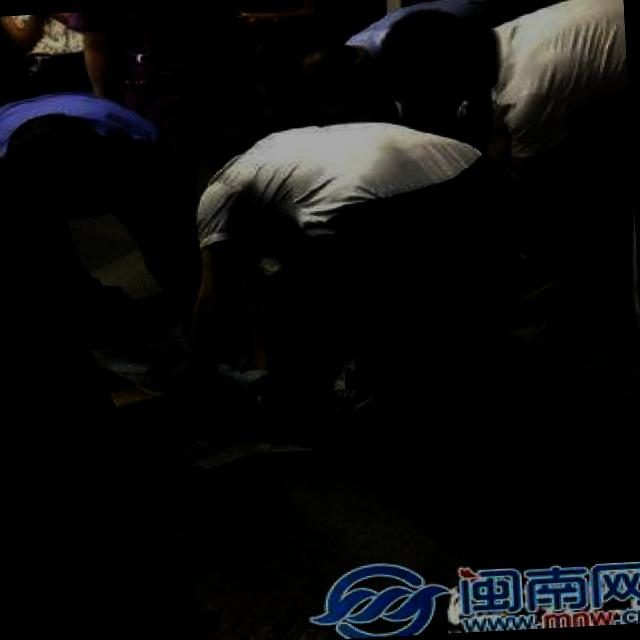Fall-Detected: (50, 229, 296, 436)
